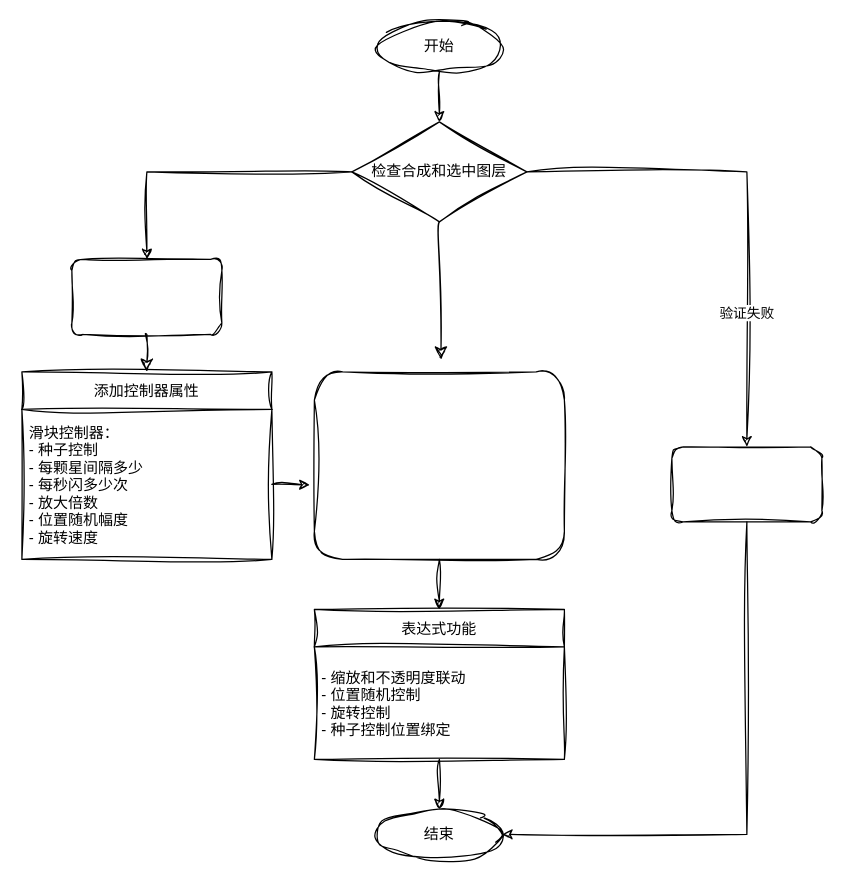
Image size: 844x881. Some labels were removed from this diagram. Here are the shapes that lost their labels. From the top down, the centre of each, then its label:
the point at 146,296: 创建控制器(Controller)
the point at 438,465: 应用表达式到选中图层
the point at 746,484: 错误处理
